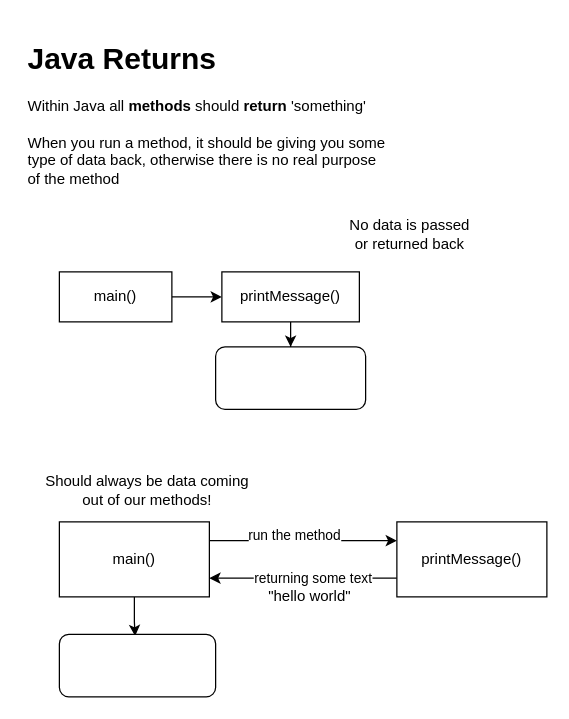
The diagram is 569 pixels wide and 719 high, and some of its shapes have lost their labels. The centre of each missing label's shape, as x and y in pixels:
print to console - "Hello world": point 290,377
print to console the text that was returned: point 137,665
